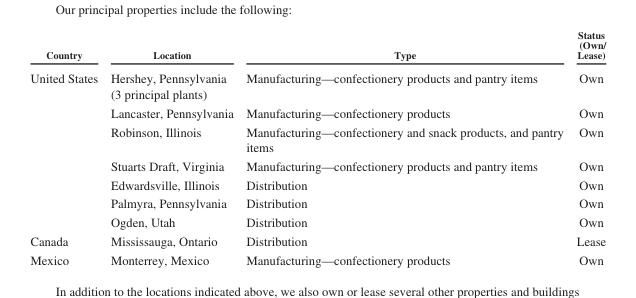table: (29, 28, 605, 267)
table column: (239, 28, 569, 267), (103, 28, 239, 267), (29, 28, 103, 267), (569, 28, 605, 267)
table column header: (29, 28, 605, 65)
table row: (29, 28, 605, 65), (29, 65, 605, 102), (29, 121, 605, 155), (29, 102, 605, 121), (29, 155, 605, 174), (29, 174, 605, 193), (29, 193, 605, 212), (29, 212, 605, 231), (29, 231, 605, 250), (29, 250, 605, 267)
table spanning cell: (29, 65, 103, 231)
